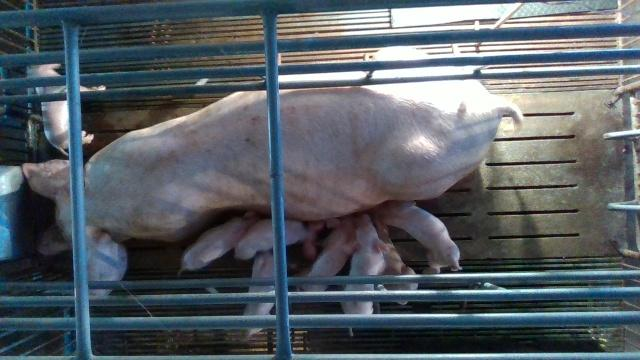piglet: (27, 65, 106, 155), (339, 215, 393, 337), (376, 200, 464, 273), (175, 208, 263, 275), (295, 217, 356, 290), (238, 249, 277, 344), (232, 220, 324, 259), (379, 222, 420, 306)
sow-sit: (22, 46, 522, 298)
